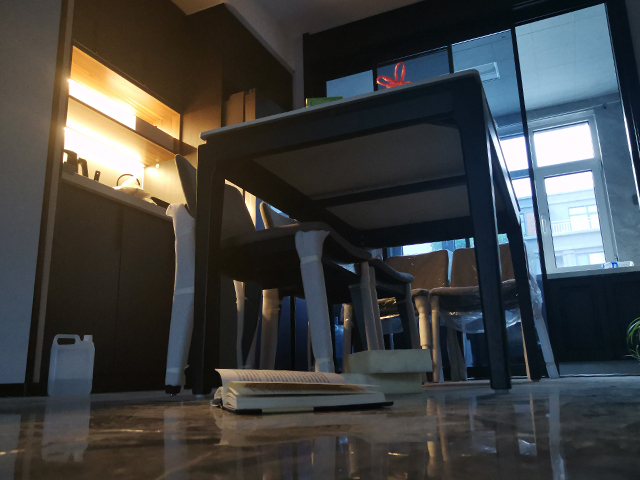book: (205, 368, 395, 418)
cabinet: (35, 169, 169, 389), (542, 265, 640, 377)
stool: (162, 156, 369, 397), (429, 242, 543, 389)
table: (192, 68, 544, 396)
